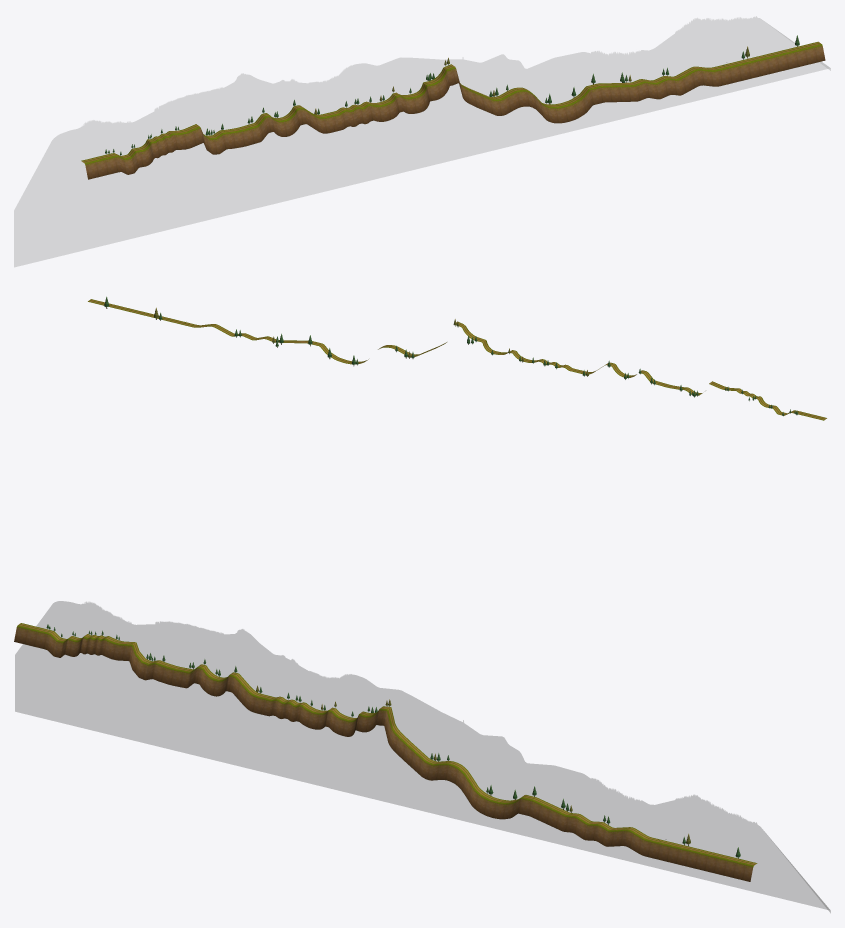
The model's file is level1_showcase.gltf.
The picture shows the model from 3 angles, top to bottom: view 1: azimuth 30°, elevation 25°; view 2: azimuth 150°, elevation 25°; view 3: azimuth 330°, elevation 25°; orthographic projection.
Visible parts, largest first — view 1: back, ground, elka; view 2: ground, elka; view 3: back, ground, elka.
Part boxes in pixels (<box>): back: <box>14,16,830,267</box>; ground: <box>81,41,825,179</box>; elka: <box>105,35,799,155</box>; ground: <box>88,299,826,420</box>; elka: <box>104,296,797,416</box>; back: <box>15,601,830,912</box>; ground: <box>14,623,757,881</box>; elka: <box>46,624,740,858</box>.
Bounding box in the file's own units: 2498 × 419 × 201.
Materials: 3 (3 with a texture image).
